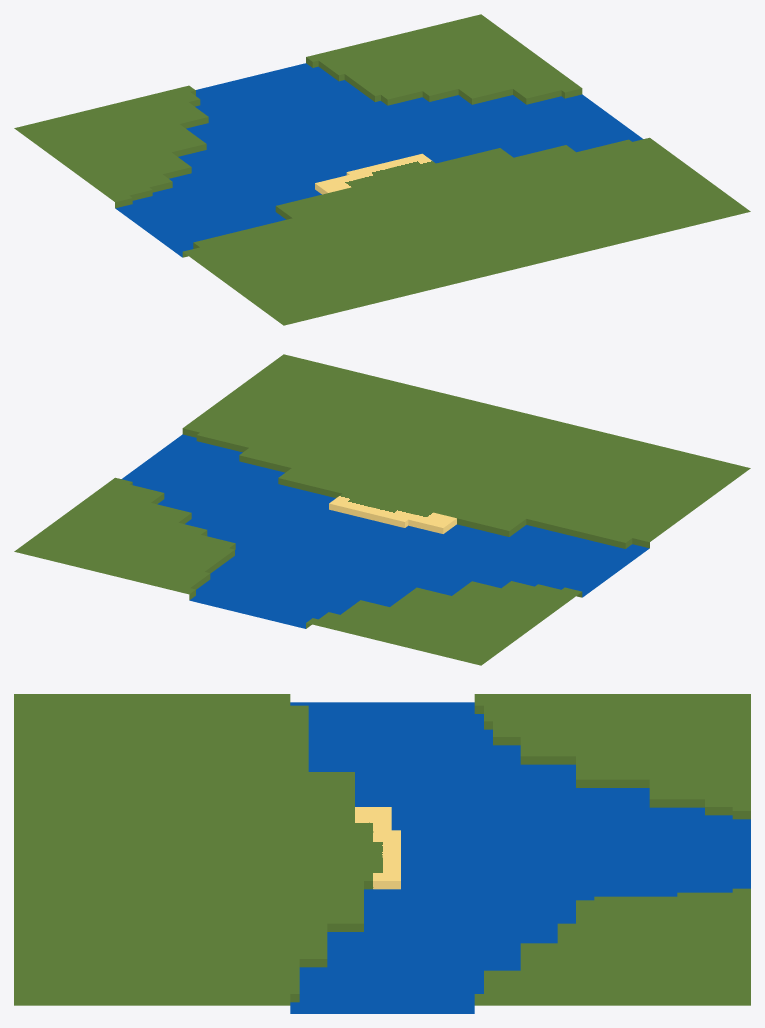
Rendered from LLLLR946.glb.
The picture shows the model from 3 angles, top to bottom: view 1: azimuth 30°, elevation 25°; view 2: azimuth 150°, elevation 25°; view 3: azimuth 270°, elevation 25°; orthographic projection. The views are drawn at different scales.
Parts seen in each view (by area): view 1: model_0.058; view 2: model_0.058; view 3: model_0.058.
Boxes of the visible parts, <box> form: model_0.058: <box>14,14,750,325</box>; model_0.058: <box>14,354,750,665</box>; model_0.058: <box>14,694,750,1013</box>.
Size of the model in its own units: 80 by 1 by 80.
Materials: 1 (1 with a texture image).
